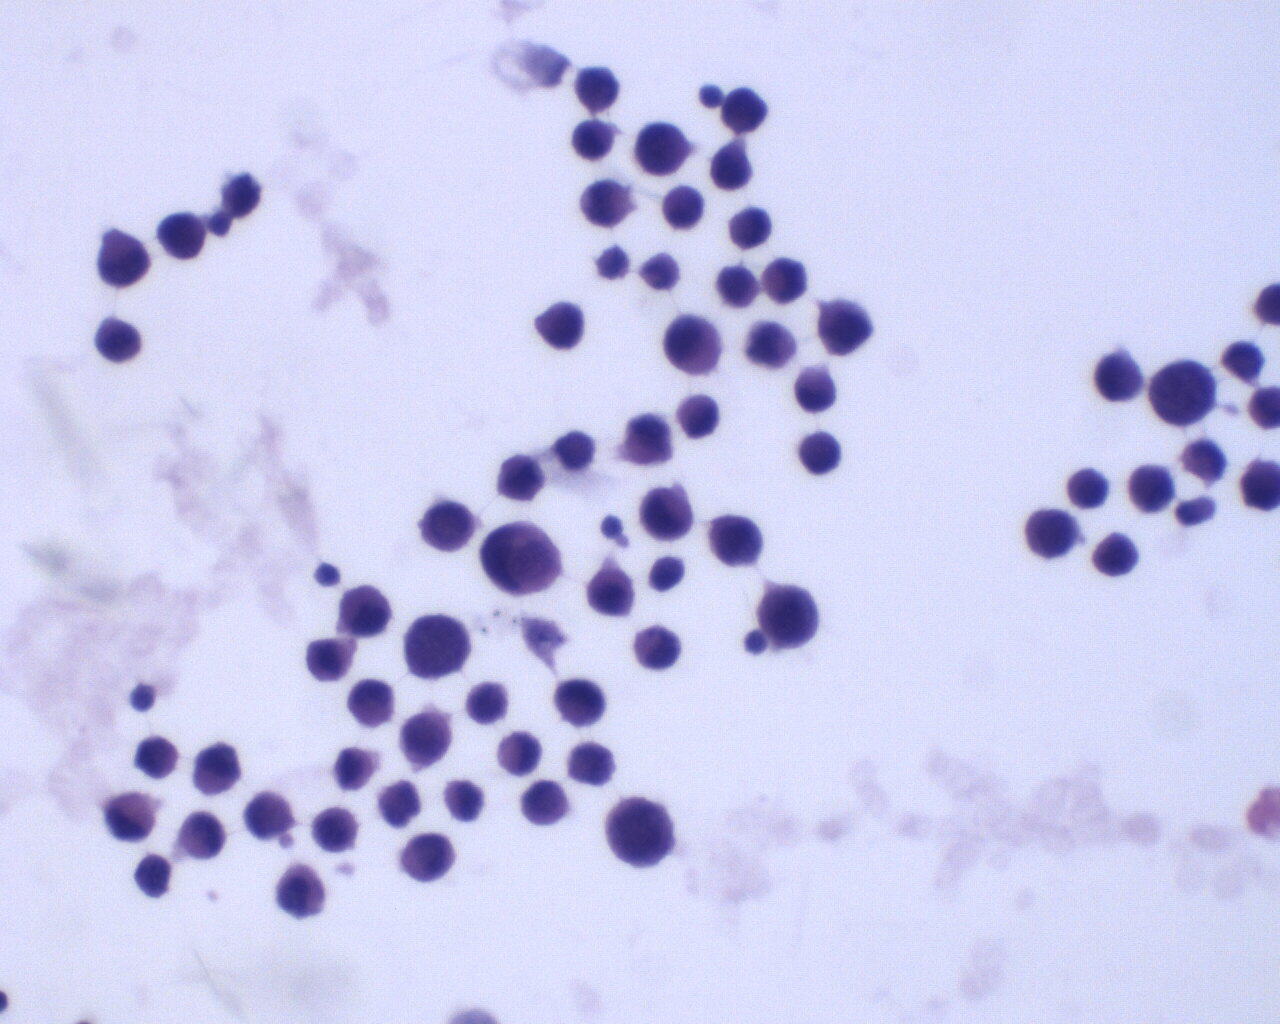ab: (476, 519, 566, 599), (602, 796, 679, 872), (1146, 354, 1220, 428), (755, 579, 821, 647), (94, 226, 155, 293), (1019, 506, 1085, 563), (818, 296, 876, 360), (186, 741, 245, 802), (398, 828, 457, 886), (549, 674, 609, 730), (575, 177, 637, 230), (633, 119, 691, 177), (416, 497, 476, 552), (639, 484, 695, 542), (708, 512, 764, 571), (275, 862, 328, 922), (339, 584, 394, 641), (400, 708, 453, 767), (706, 139, 759, 195), (516, 775, 571, 828), (535, 300, 587, 352), (586, 565, 639, 616), (156, 211, 207, 263), (496, 453, 548, 504), (676, 390, 724, 443), (309, 805, 360, 854), (761, 256, 809, 308), (132, 731, 181, 782), (798, 430, 846, 479), (661, 182, 706, 233), (1092, 529, 1139, 576), (442, 777, 488, 824), (572, 119, 619, 163), (334, 745, 374, 796), (1066, 467, 1111, 512)
